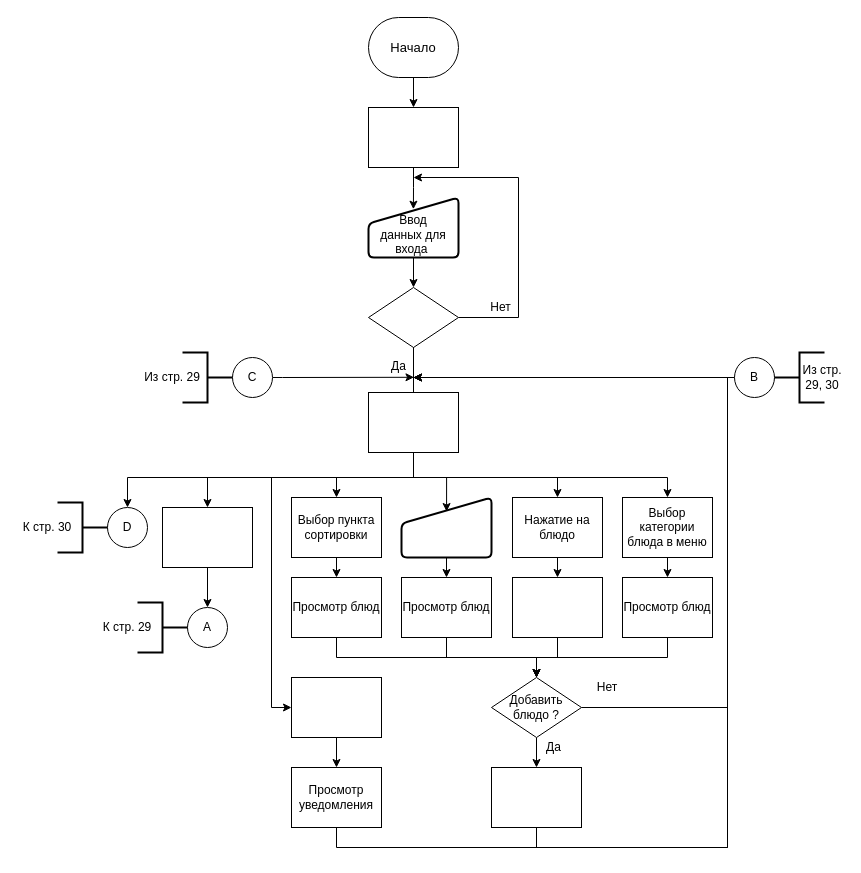
Image size: 861x873. Some labels were removed from this diagram. Each missing label, with the box of its shape:
Ввод данных в строку поиска: (400, 496, 492, 558)
Данные введены верно?: (368, 286, 458, 348)
Запустить приложение: (368, 106, 458, 168)
Нажатие на кнопку "Мой заказ": (162, 506, 252, 568)
Нажатие на кнопку вызова официанта: (290, 676, 382, 738)
Нажатие на кнопку добавления блюда: (490, 766, 582, 828)
Просмотр информации о блюде: (512, 576, 602, 638)
Просмотр окна с меню: (368, 392, 458, 452)
